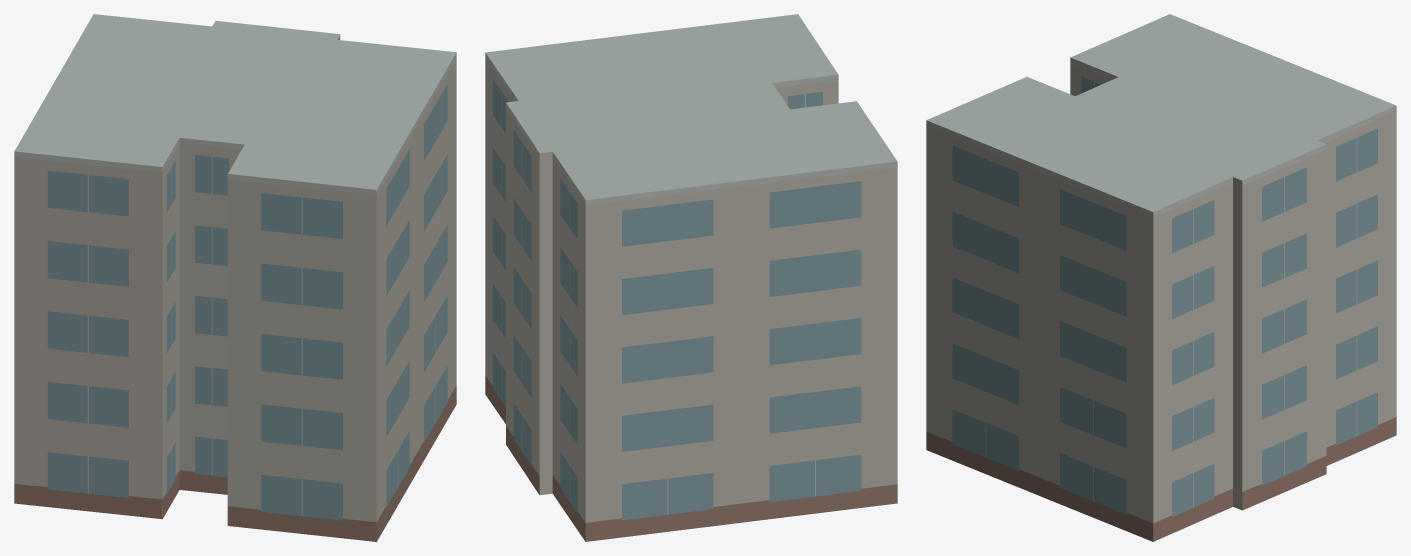
The model's file is survey-upis-32898859.glb.
The picture shows the model from 3 angles, left to right: view 1: azimuth 30°, elevation 25°; view 2: azimuth 150°, elevation 25°; view 3: azimuth 270°, elevation 25°; orthographic projection. The views are drawn at different scales.
Visible parts, largest first — view 1: survey-upis-32898859.tmp; view 2: survey-upis-32898859.tmp; view 3: survey-upis-32898859.tmp.
Boxes of the visible parts, x1,y1,x2,y2 form: survey-upis-32898859.tmp: (14,14,456,541); survey-upis-32898859.tmp: (485,14,897,541); survey-upis-32898859.tmp: (926,14,1396,541).
Bounding box in the file's own units: 19.66 × 15.25 × 19.71.
